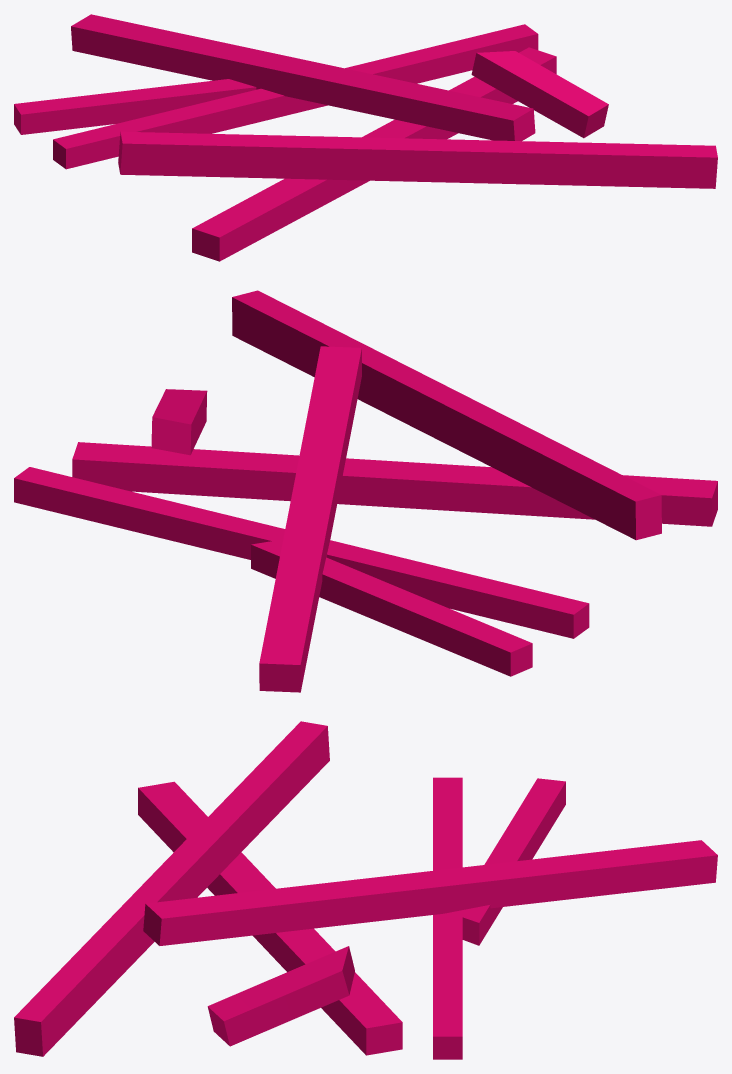
File: Wood_W_Pile_05_Lod0.fbx
3 views of the same model, one above another, from view 1: azimuth 30°, elevation 25°; view 2: azimuth 150°, elevation 25°; view 3: azimuth 270°, elevation 25° (orthographic). The views are drawn at different scales.
Visible parts, largest first — view 1: Wood_W_Pile_05_Lod0; view 2: Wood_W_Pile_05_Lod0; view 3: Wood_W_Pile_05_Lod0.
Part boxes in pixels (x1,y1,x2,y2): Wood_W_Pile_05_Lod0: (14, 14, 717, 261); Wood_W_Pile_05_Lod0: (14, 290, 717, 692); Wood_W_Pile_05_Lod0: (14, 721, 717, 1059).
Size of the model in its own units: 295 by 42.36 by 334.
